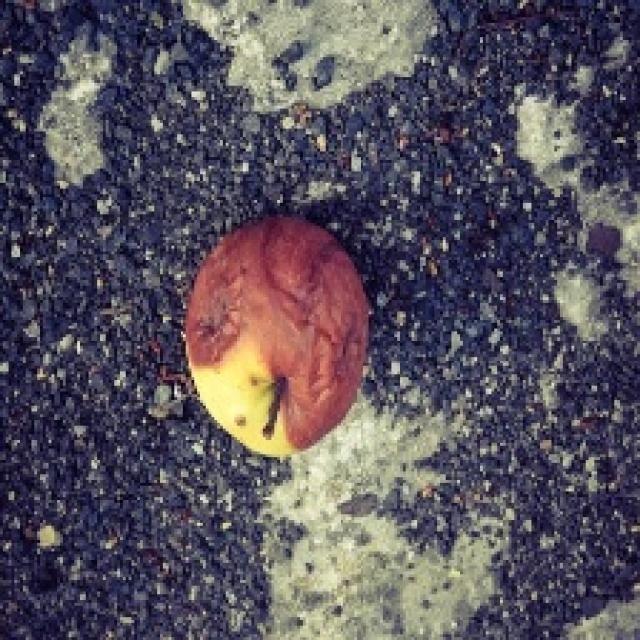rotten_apple: (186, 218, 368, 456)
